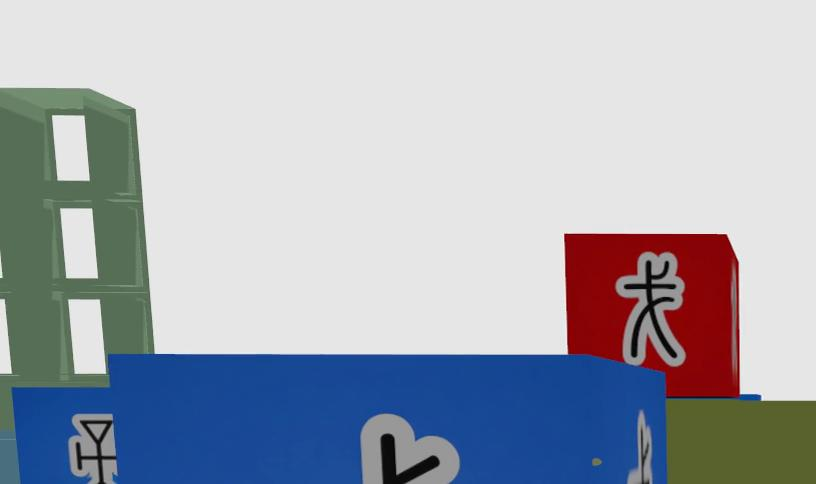KFS_FAKE: (565, 235, 740, 396), (616, 252, 684, 365)
KFS_REAL: (109, 354, 669, 484), (12, 387, 121, 484), (357, 416, 458, 484), (69, 414, 118, 484), (626, 411, 653, 484)
